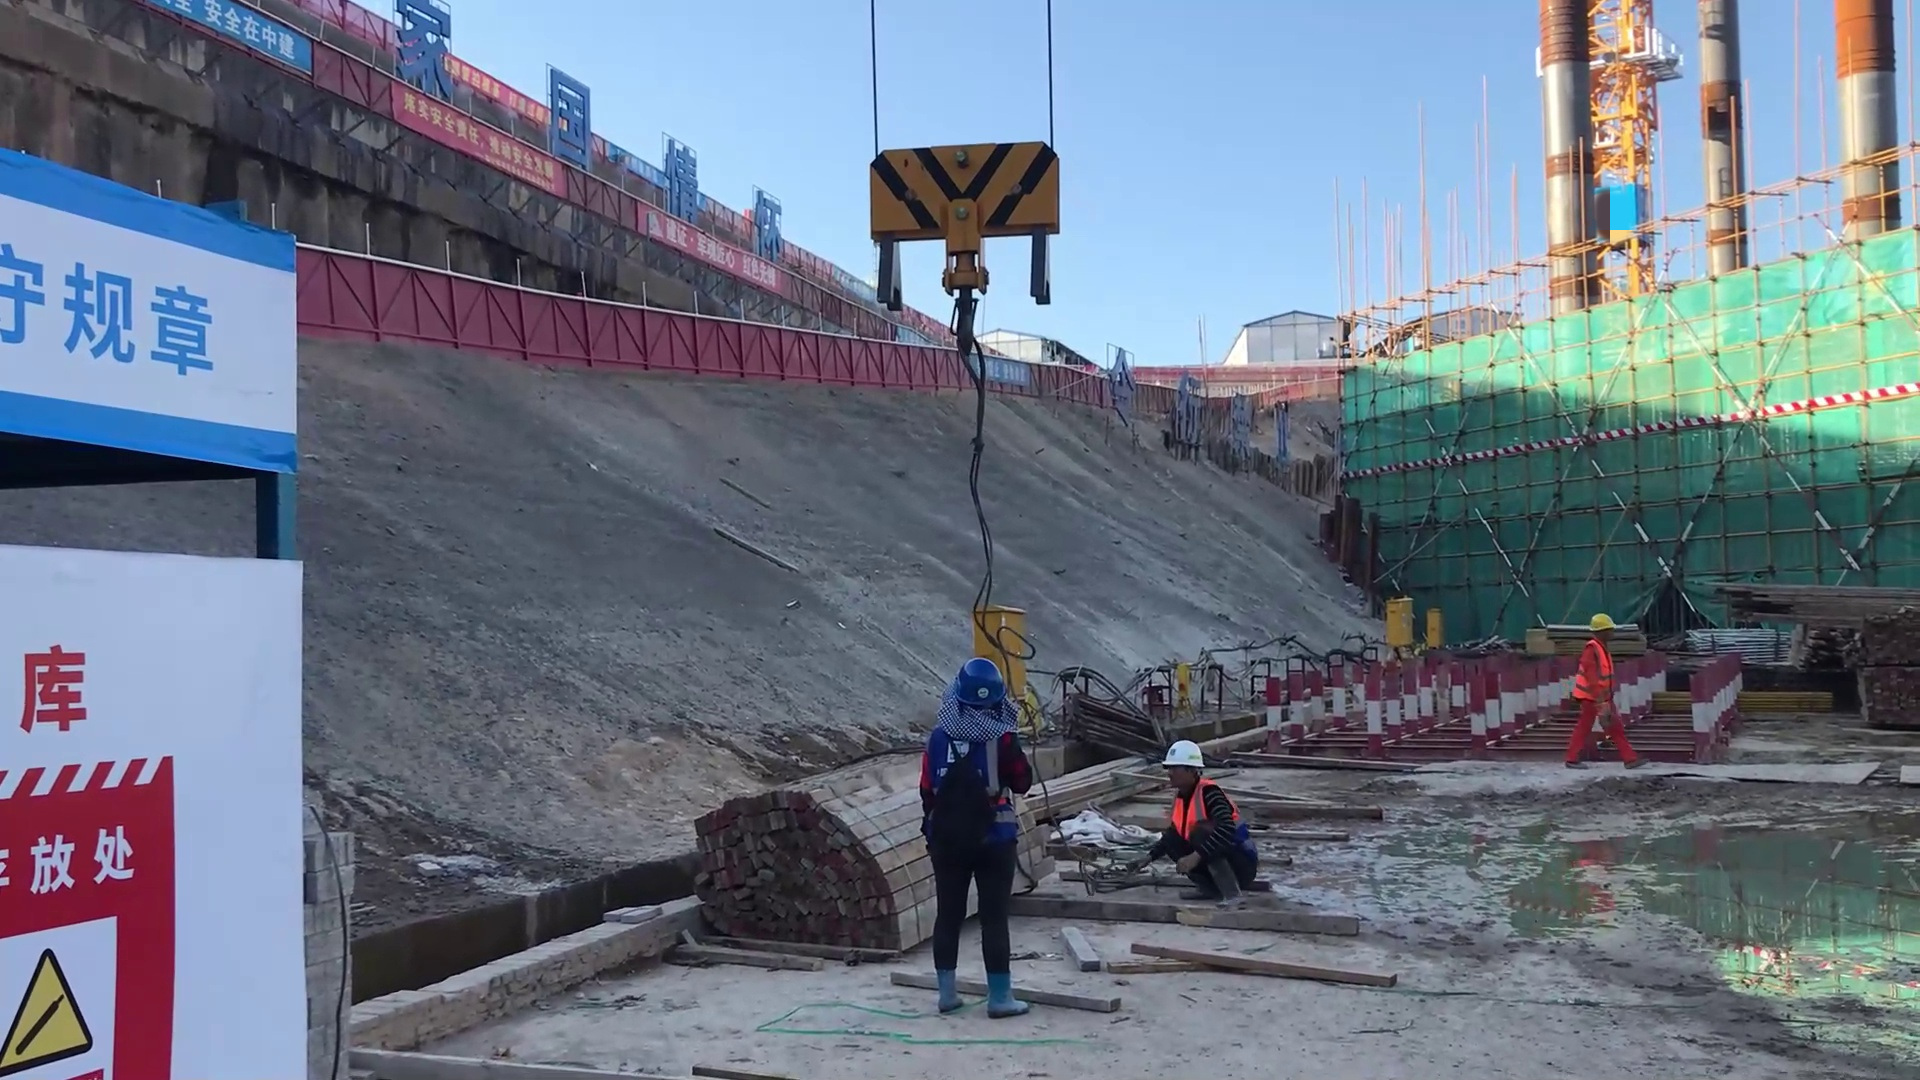ebox: (971, 598, 1030, 694), (1384, 593, 1415, 648), (1423, 609, 1444, 646)
fence: (279, 255, 844, 384), (838, 335, 1132, 411)
helmet: (944, 666, 1029, 746), (1148, 732, 1208, 786), (1579, 610, 1621, 642)
hook: (865, 149, 1073, 323)
person: (913, 659, 1039, 1025), (1129, 731, 1265, 908), (1553, 609, 1655, 776)
slogan: (1, 229, 223, 437), (381, 68, 562, 229), (1, 853, 128, 1079), (183, 1, 307, 67)
vest: (1563, 638, 1630, 715), (1159, 796, 1221, 848)
wood: (673, 731, 904, 956), (1704, 570, 1920, 639)
